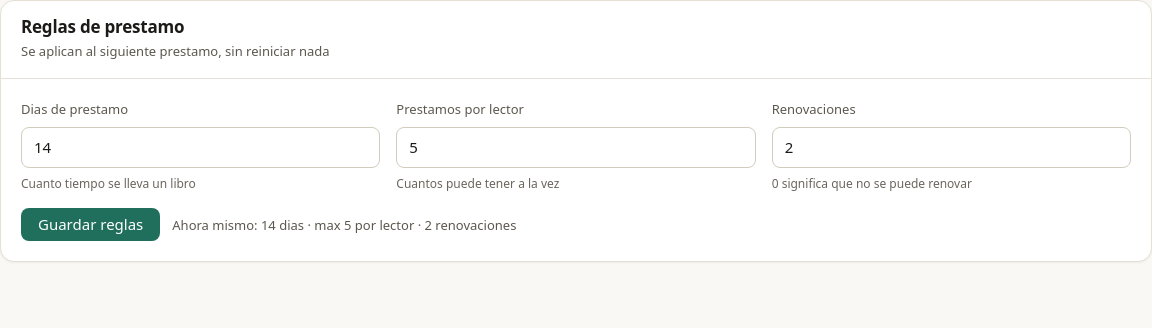
Test: ajustes de prestamos › explains a refusal from the server in place
The image size is (1152, 328).
Expected: the number field labelled "Dias de prestamo" is shown, [21,127,380,168]
Click the button "Guardar reglas" at (91, 225), box [21,208,160,241]
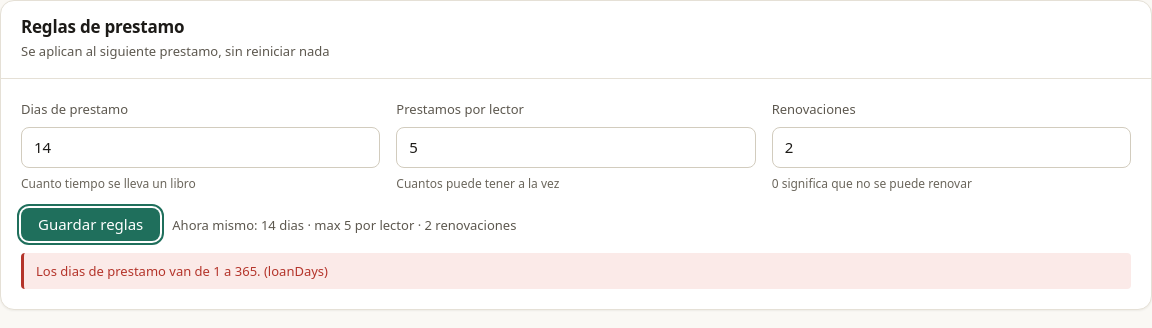
Result: the message shows "1 a 365" at [36,262,328,280]
